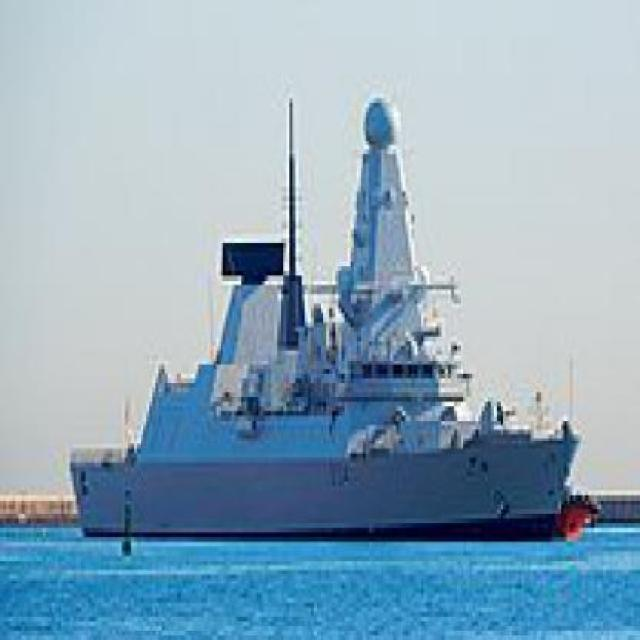warship2: (59, 34, 593, 553)
